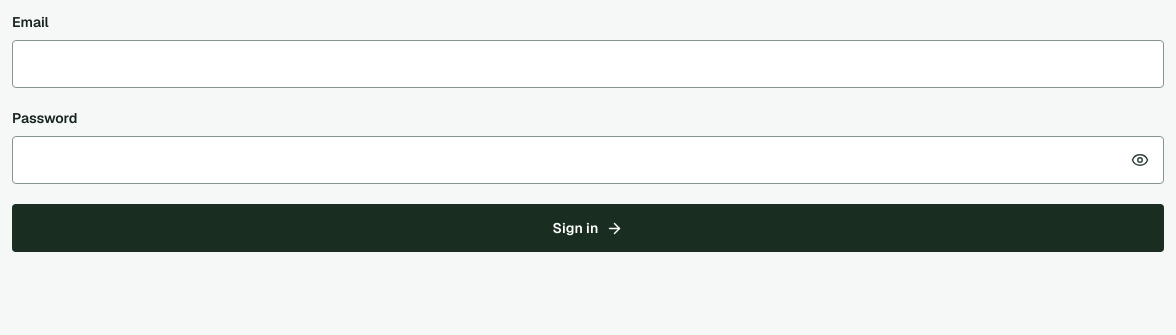
Test: LoginForm › keeps invalid credentials neutral and allows another attempt
In the field labelled "Email": (588, 64) [12,40,1164,88], type "person@example.com"
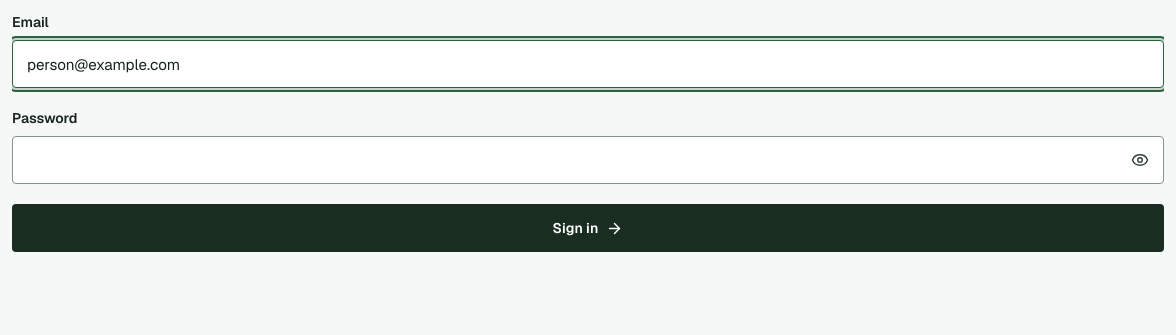
In the password field labelled "Password": (588, 160) [12,136,1164,184], type "wrong-password"
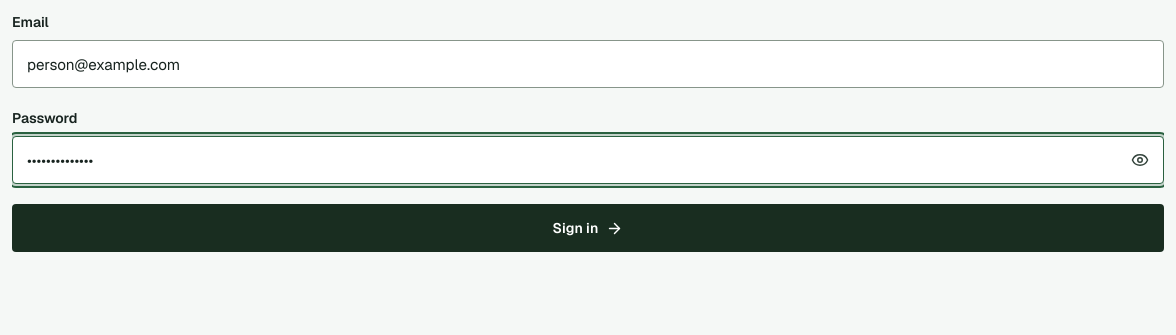
Click the button "Sign in": (588, 228) [12,204,1164,252]
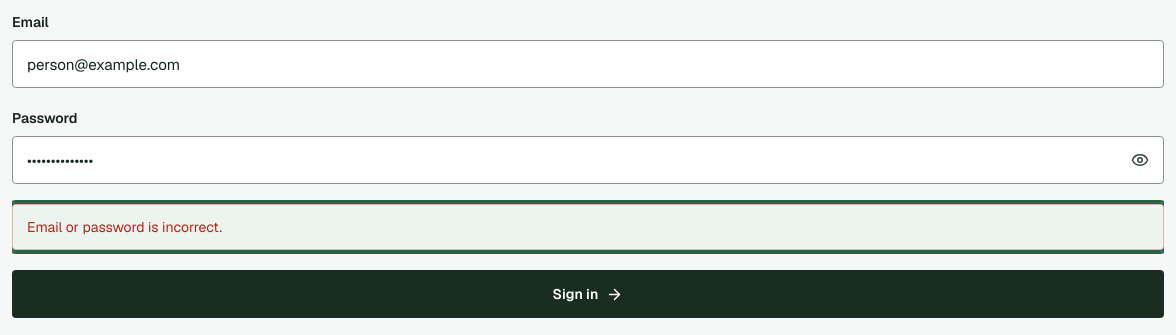
Expected: the button "Sign in" is enabled, [12,270,1164,318]
Result: the message reads "Email or password is incorrect." at [27,218,222,236]
